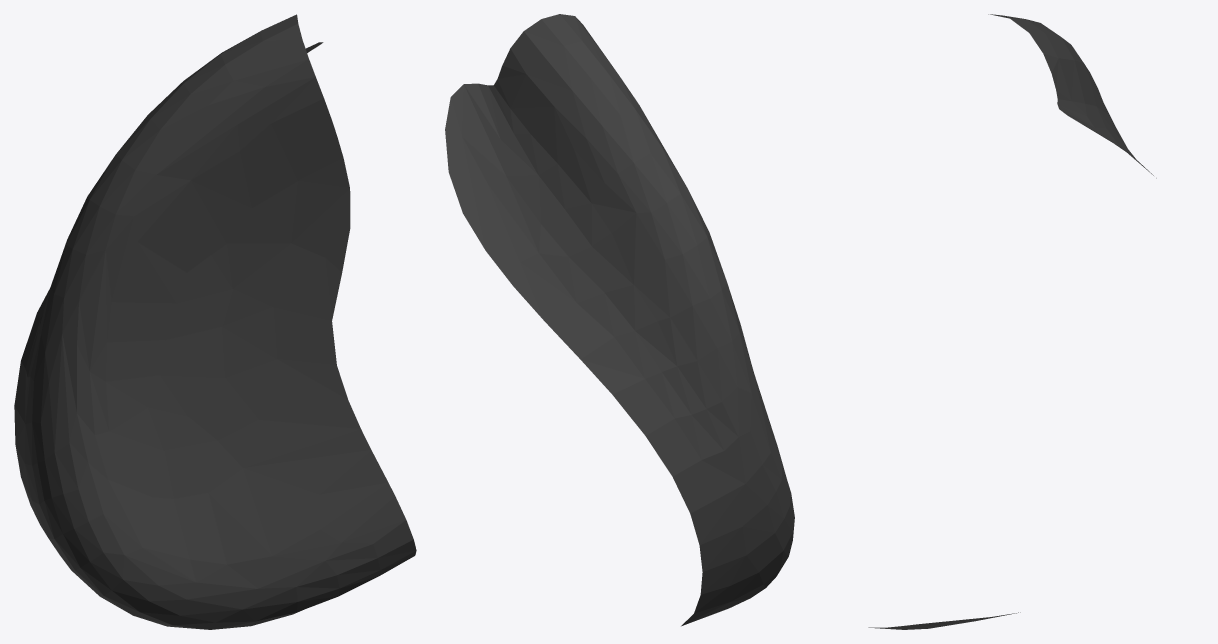
Rendered from Ulna_process_coronoid_medial.glb.
The picture shows the model from 3 angles, left to right: view 1: azimuth 30°, elevation 25°; view 2: azimuth 150°, elevation 25°; view 3: azimuth 270°, elevation 25°; orthographic projection. The views are drawn at different scales.
Visible parts, largest first — view 1: Ulna_process_coronoid_medial; view 2: Ulna_process_coronoid_medial; view 3: Ulna_process_coronoid_medial.
Boxes of the visible parts, x1,y1,x2,y2 form: Ulna_process_coronoid_medial: (14,14,416,629); Ulna_process_coronoid_medial: (445,14,794,626); Ulna_process_coronoid_medial: (868,14,1156,629).
Size of the model in its own units: 0.0832 by 0.1472 by 0.0788.
Materials: 1 (1 with a texture image).
